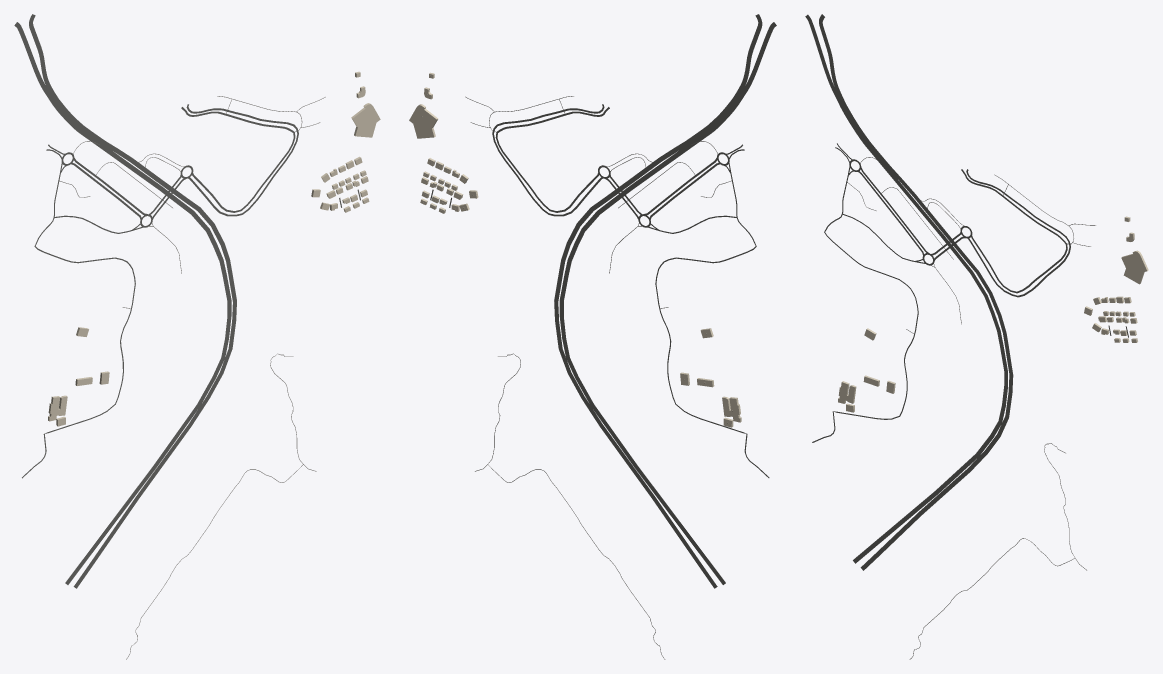
The model's file is historic-palestine-11_32_3530_3268.glb.
3 views of the same model, side by side, from view 1: azimuth 30°, elevation 25°; view 2: azimuth 150°, elevation 25°; view 3: azimuth 330°, elevation 25° (orthographic). The views are drawn at different scales.
Parts seen in each view (by area): view 1: Road 60, Road 60.001, Road .005, Building_.024; view 2: Road 60, Road 60.001, Road .005, Building_.024; view 3: Road 60, Road 60.001, Road .005, Building_.024.
Part boxes in pixels (left/top/right/bottom): Road 60: left=29, top=14, right=236, bottom=588; Road 60.001: left=14, top=22, right=231, bottom=584; Road .005: left=22, top=173, right=135, bottom=478; Building_.024: left=351, top=103, right=380, bottom=137; Road 60: left=554, top=14, right=762, bottom=588; Road 60.001: left=559, top=22, right=776, bottom=584; Road .005: left=655, top=173, right=769, bottom=477; Building_.024: left=409, top=104, right=438, bottom=138; Road 60: left=819, top=14, right=1013, bottom=570; Road 60.001: left=805, top=14, right=1007, bottom=563; Road .005: left=812, top=175, right=918, bottom=442; Building_.024: left=1121, top=250, right=1148, bottom=284.
Size of the model in its own units: 1053 by 1836 by 8.7.
